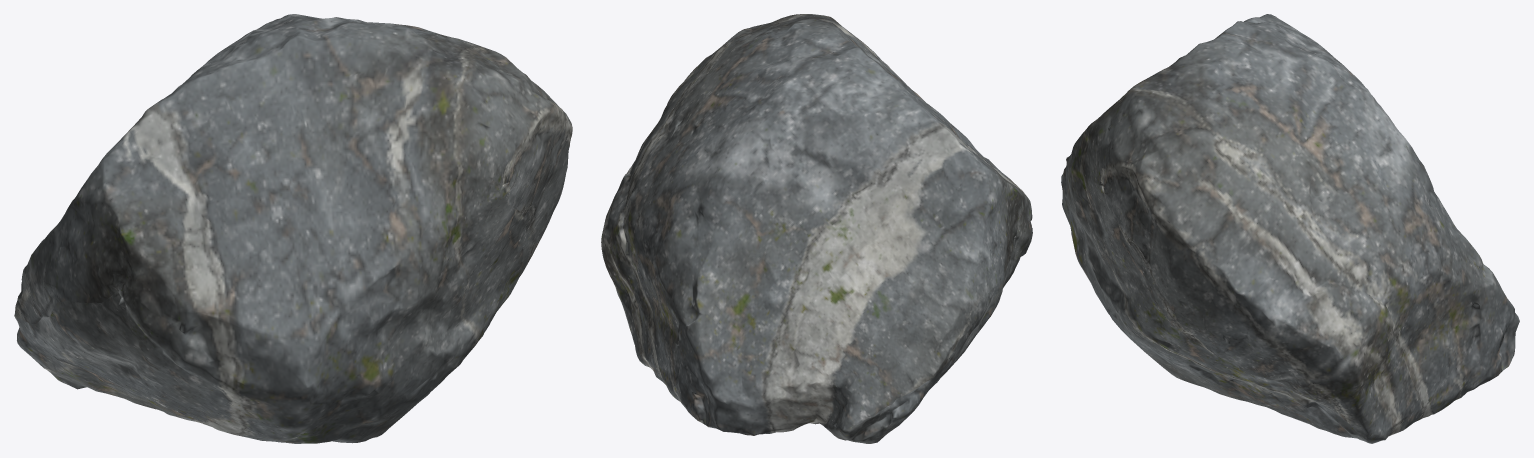
Rendered from SM_Rock_01.fbx.
The picture shows the model from 3 angles, left to right: view 1: azimuth 30°, elevation 25°; view 2: azimuth 150°, elevation 25°; view 3: azimuth 270°, elevation 25°; orthographic projection. The views are drawn at different scales.
Parts seen in each view (by area): view 1: SM_Rock_01_LOD0; view 2: SM_Rock_01_LOD0; view 3: SM_Rock_01_LOD0.
Part boxes in pixels (bbox=[...]): SM_Rock_01_LOD0: bbox=[14, 14, 572, 443]; SM_Rock_01_LOD0: bbox=[601, 14, 1032, 443]; SM_Rock_01_LOD0: bbox=[1061, 14, 1519, 443].
Bounding box in the file's own units: 141 × 133 × 112.
Materials: 1 (1 with a texture image).
